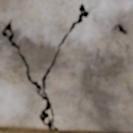brick: (0, 0, 132, 132), (0, 35, 47, 129)
crack: (0, 2, 90, 130)
